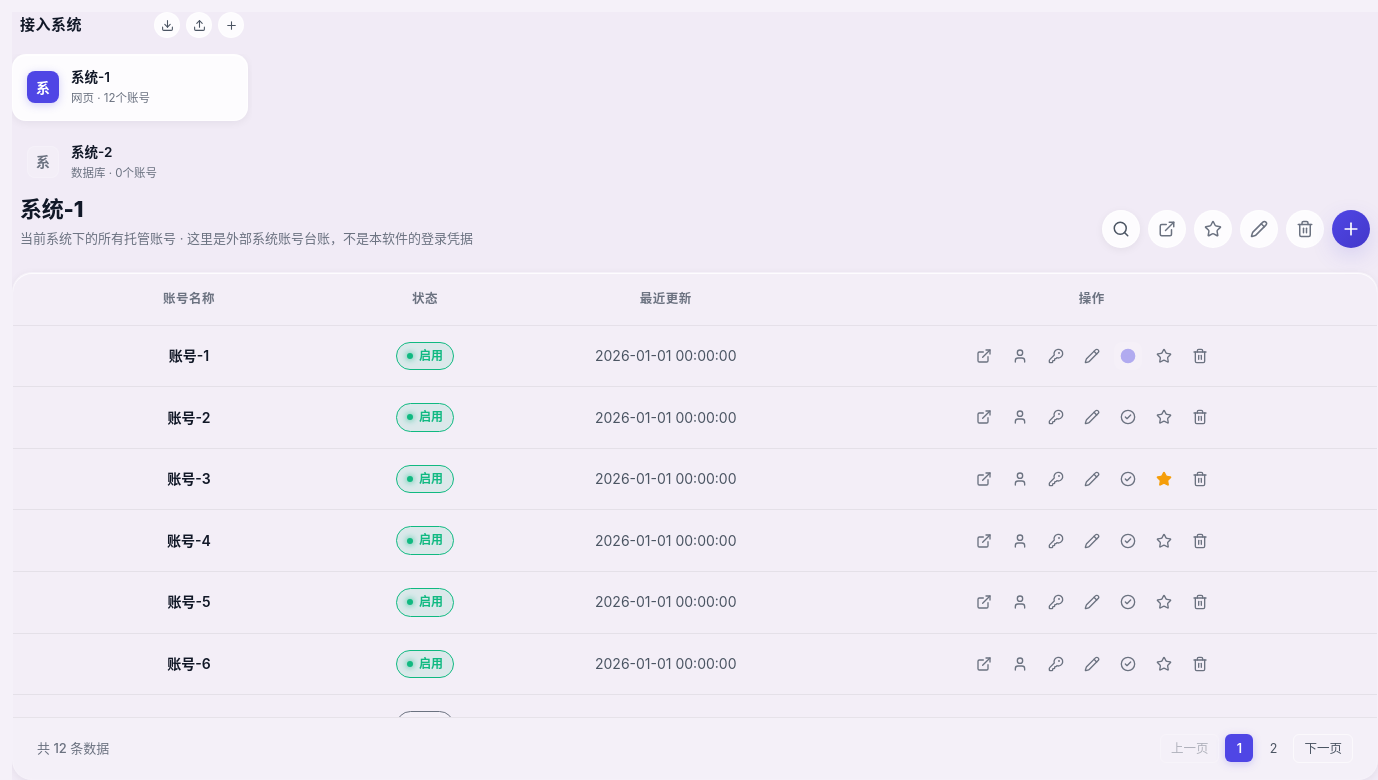
右栏的关键字、只看关注与分页 › 搜索钮展开输入框，关键字同时匹配账号名称与脱敏用户名，页脚把两个数都说出来
Expected: the text "账号-1" is shown, [169, 345, 209, 367]
Click the button named "搜索账号名称" at (1121, 229), box [1103, 211, 1139, 247]
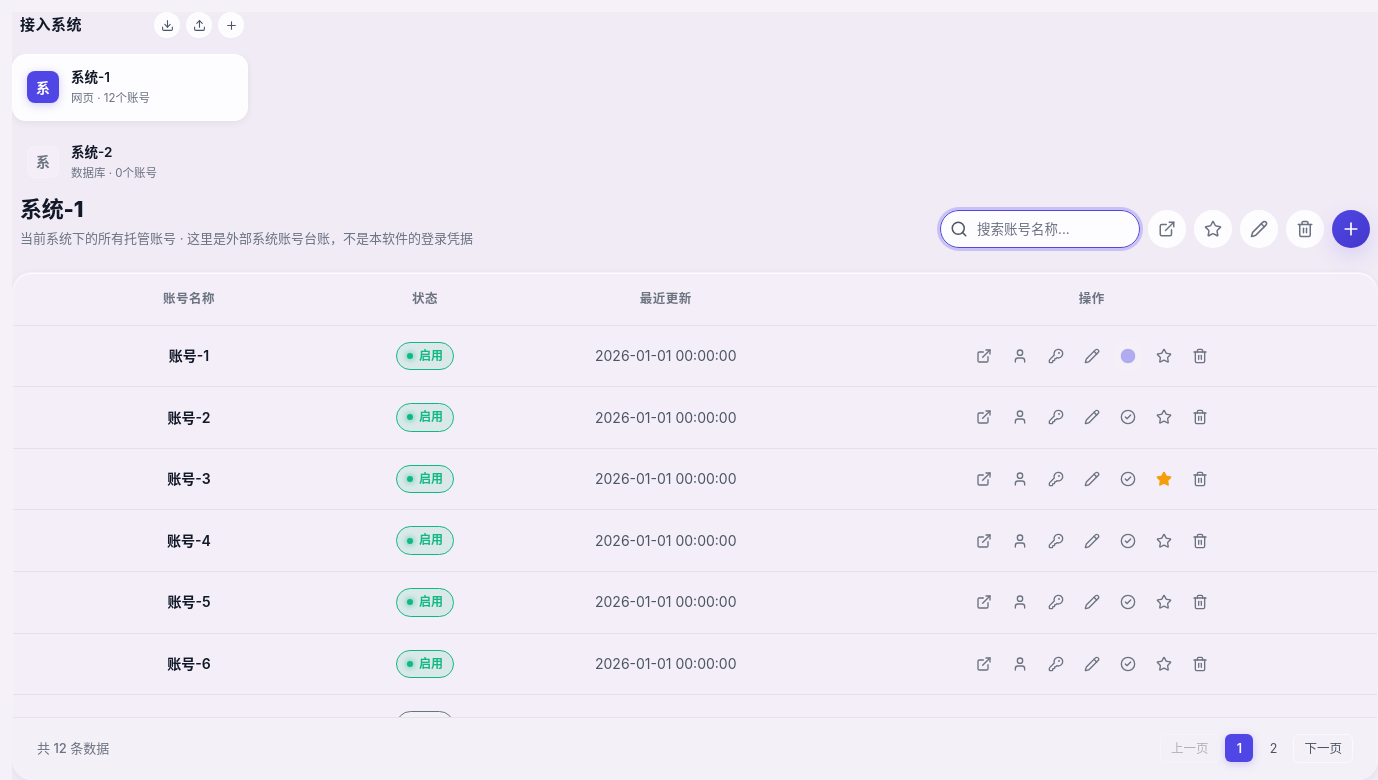
Type "账号-11" into the field with placeholder "搜索账号名称..." at (1051, 229), box [977, 219, 1125, 240]
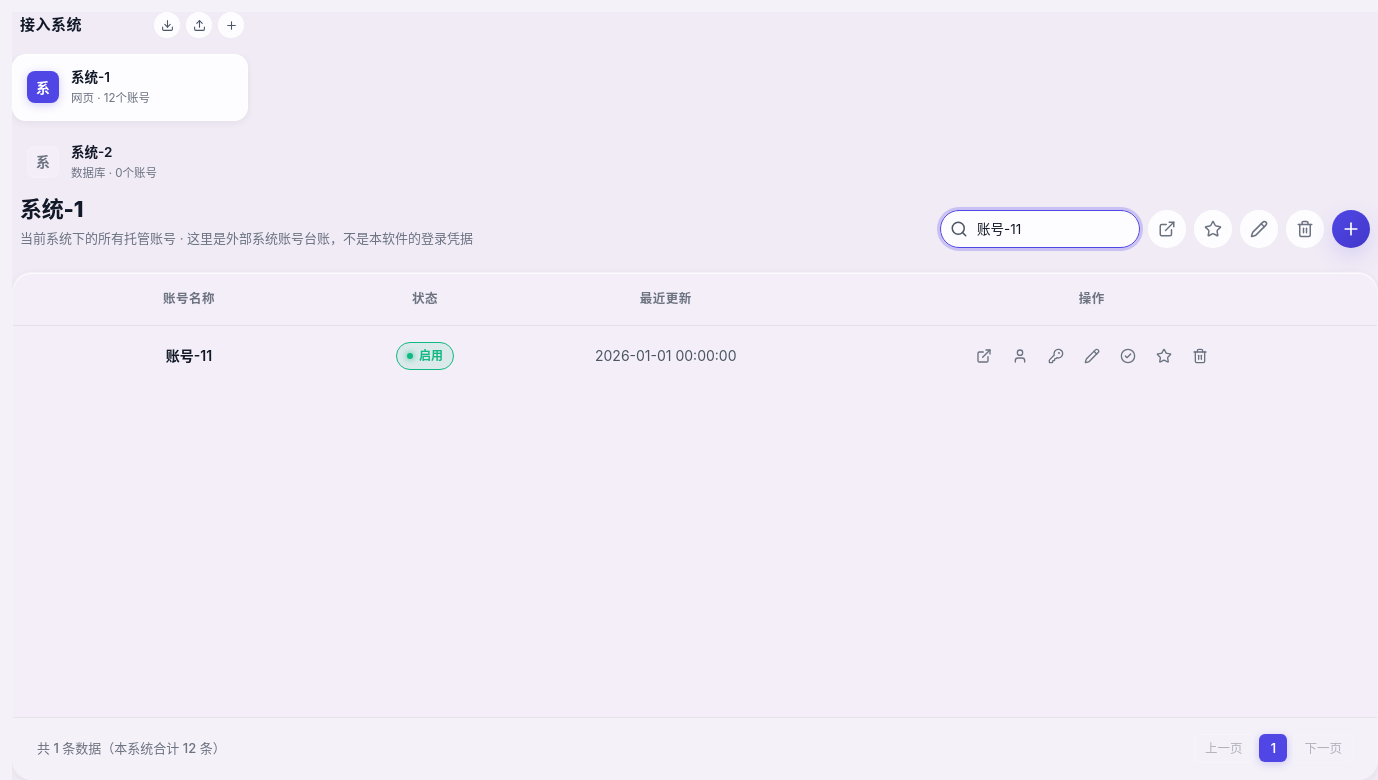
Expected: the row "账号-11 启用 2026-01-01 00:00:00" is shown, [166, 342, 1214, 370]
Expected: the message shows "共 1 条数据", [37, 738, 226, 758]
Expected: the message shows "本系统合计 12 条", [101, 740, 226, 756]
